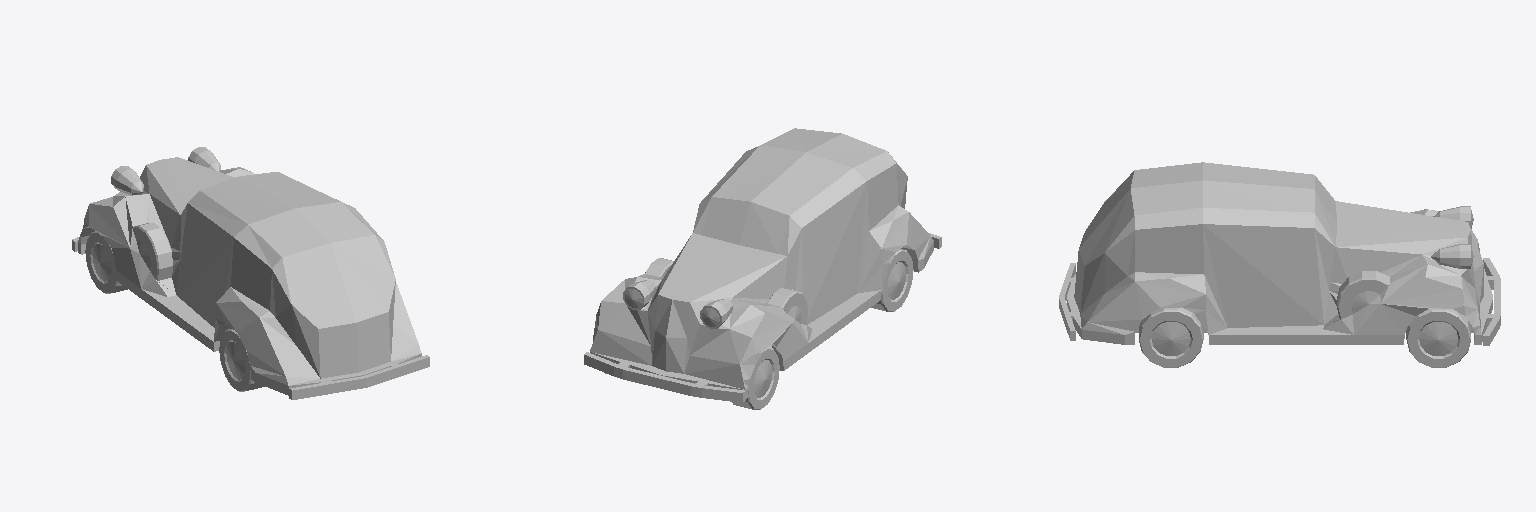
Rendered from buick8.obj.
3 views of the same model, side by side, from view 1: azimuth 30°, elevation 25°; view 2: azimuth 150°, elevation 25°; view 3: azimuth 270°, elevation 25° (orthographic).
Visible parts, largest first — view 1: Box001; view 2: Box001; view 3: Box001.
Part boxes in pixels (left/top/right/bottom): Box001: left=72, top=147, right=429, bottom=399; Box001: left=584, top=128, right=941, bottom=409; Box001: left=1059, top=162, right=1500, bottom=367.
Bounding box in the file's own units: 34.43 × 30.66 × 81.34.